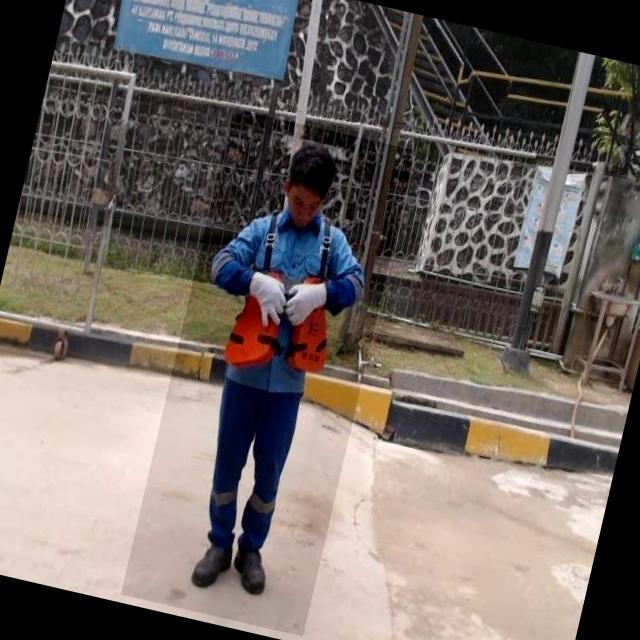Human: (121, 108, 415, 636)
Safety Boot: (225, 535, 282, 607), (190, 531, 238, 597)
Safety Vest: (216, 208, 363, 403)
